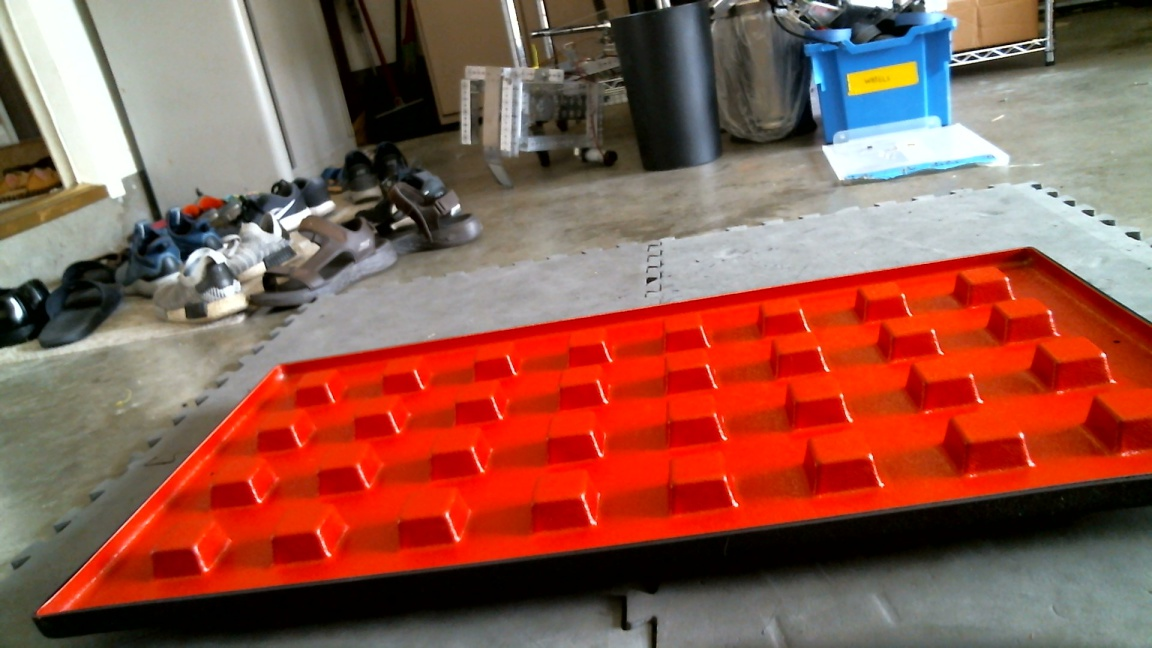red_foundation: (34, 246, 1152, 640)
